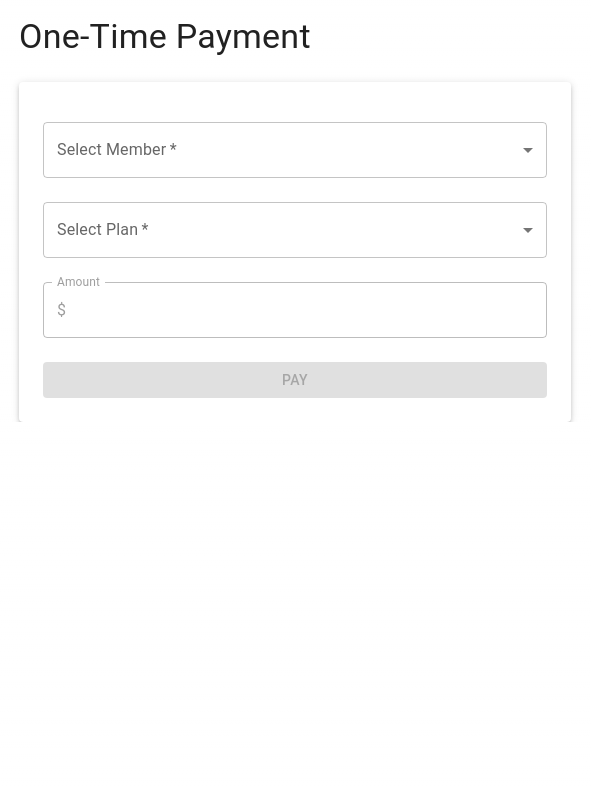
Test: PaymentPage › shows success message and clears form for successful payment
This screenshot has width=591, height=787.
expect the heading "One-Time Payment" is shown: met, box [19, 16, 311, 56]
Click the dropdown named "select member" next to "Select Member" at [295, 150], box [43, 122, 547, 178]
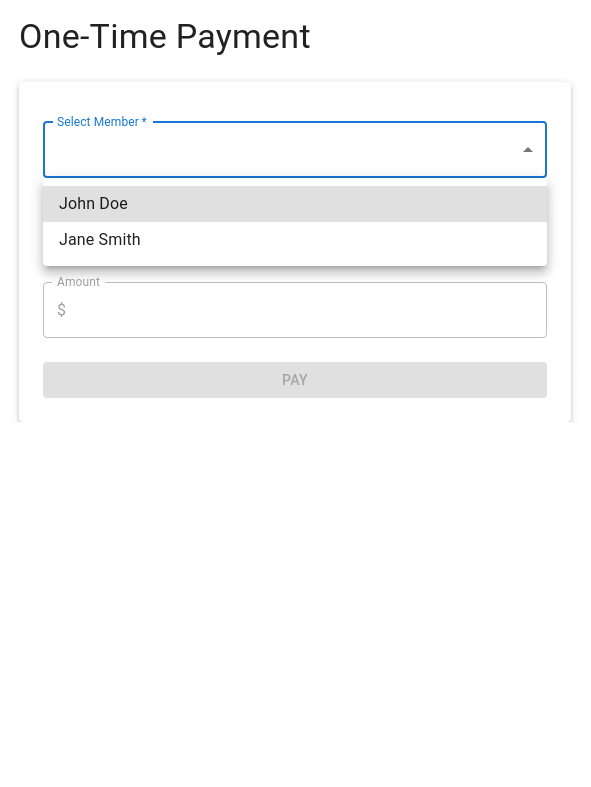
Click the option "John Doe" at [93, 204], box [43, 186, 547, 222]
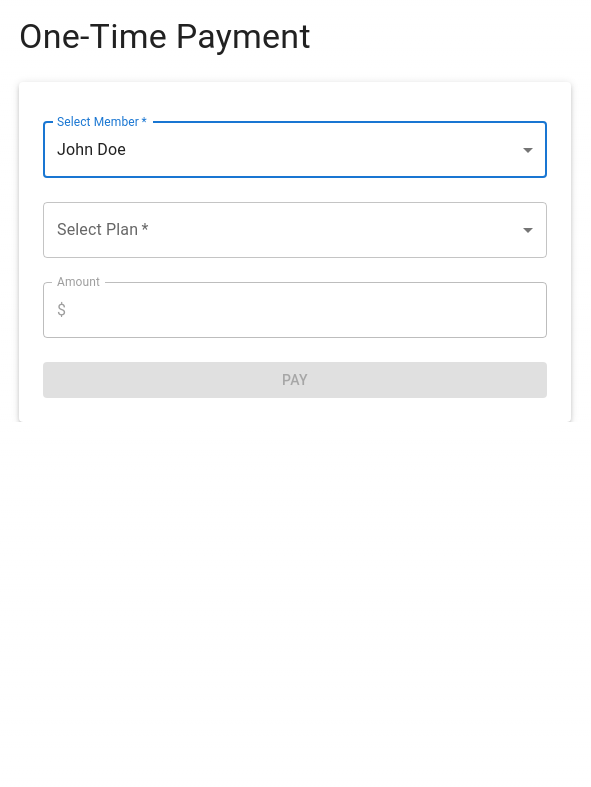
Click the dropdown named "select plan" at [295, 230], box [43, 202, 547, 258]
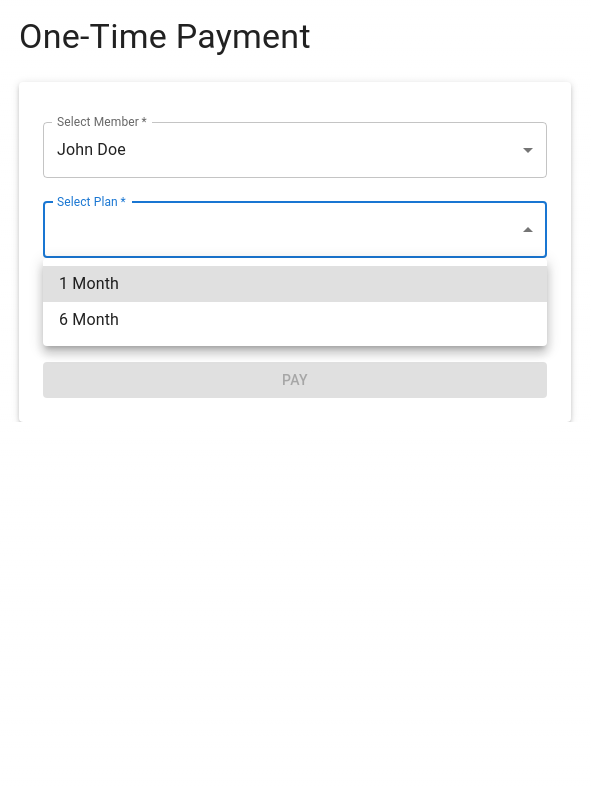
Click the option "1 Month" at [89, 284], box [43, 266, 547, 302]
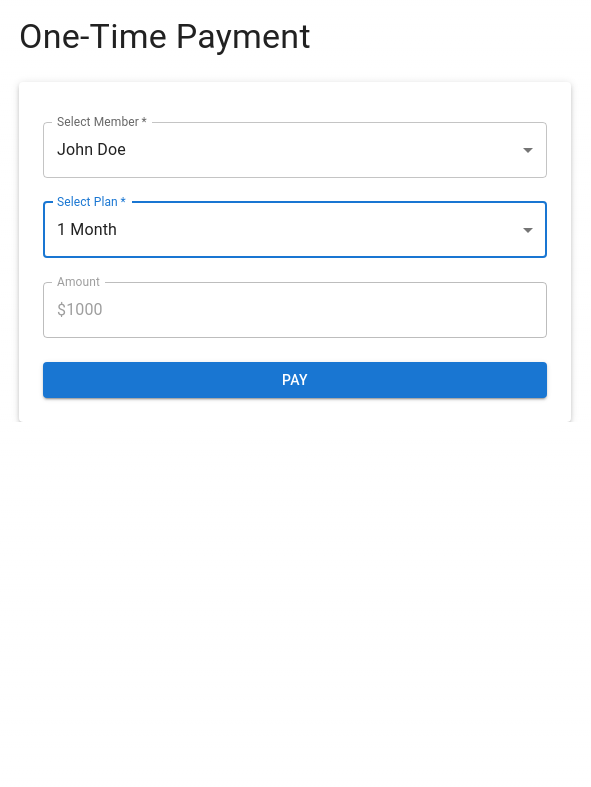
Click the button "Pay" at [295, 380], box [43, 362, 547, 398]
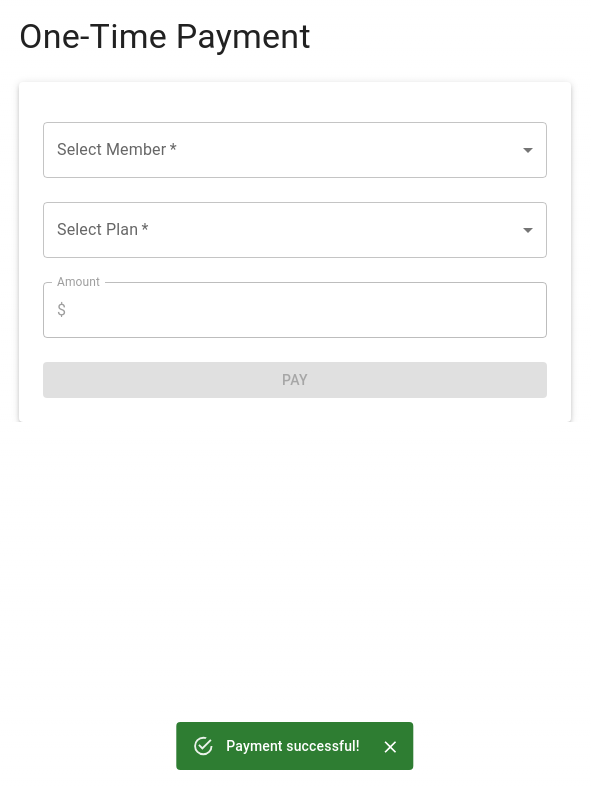
expect the text "Payment successful!" is shown: met, box [226, 738, 360, 754]
expect the dropdown named "select member" next to "Select Member" no longer shows "John Doe": met, box [43, 122, 547, 178]
expect the dropdown named "select plan" next to "Select Plan" no longer shows "1 Month": met, box [43, 202, 547, 258]
